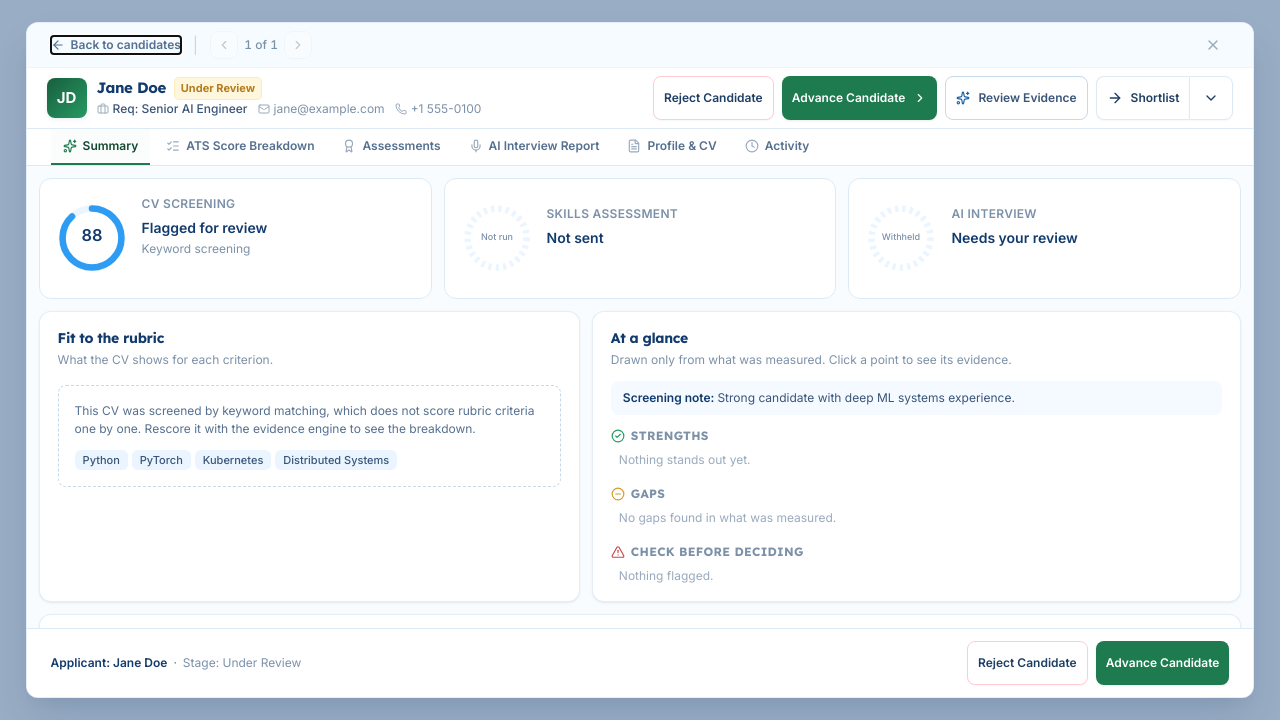
Test: switches tabs across Summary, Evidence, Assessments, Interview, Activity
Expected: the heading "Jane Doe" is shown, [97,79,166,98]
Click the tab "Profile & CV". click: (672, 147)
box: [616,129,729,165]
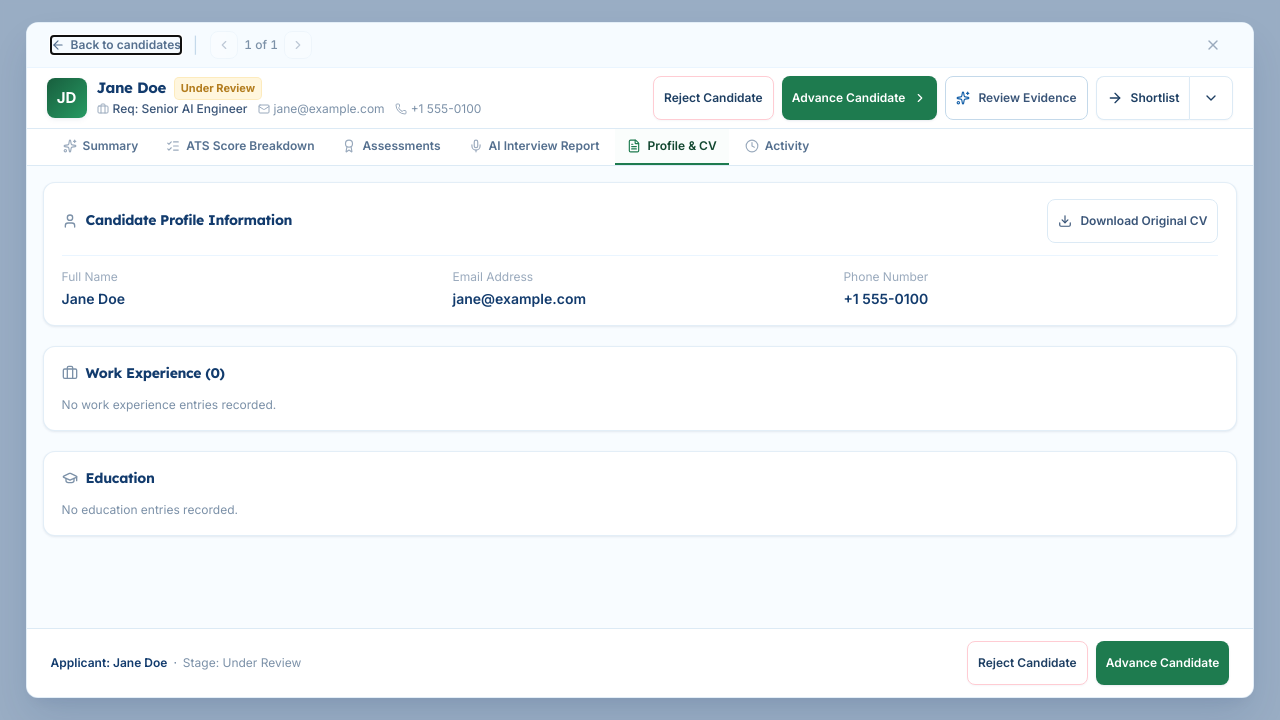
Expected: the heading "Candidate Profile Information" is shown, [62,210,292,231]
Click Activity tab
Click the tab "Activity". click: (777, 147)
box: [733,129,821,165]
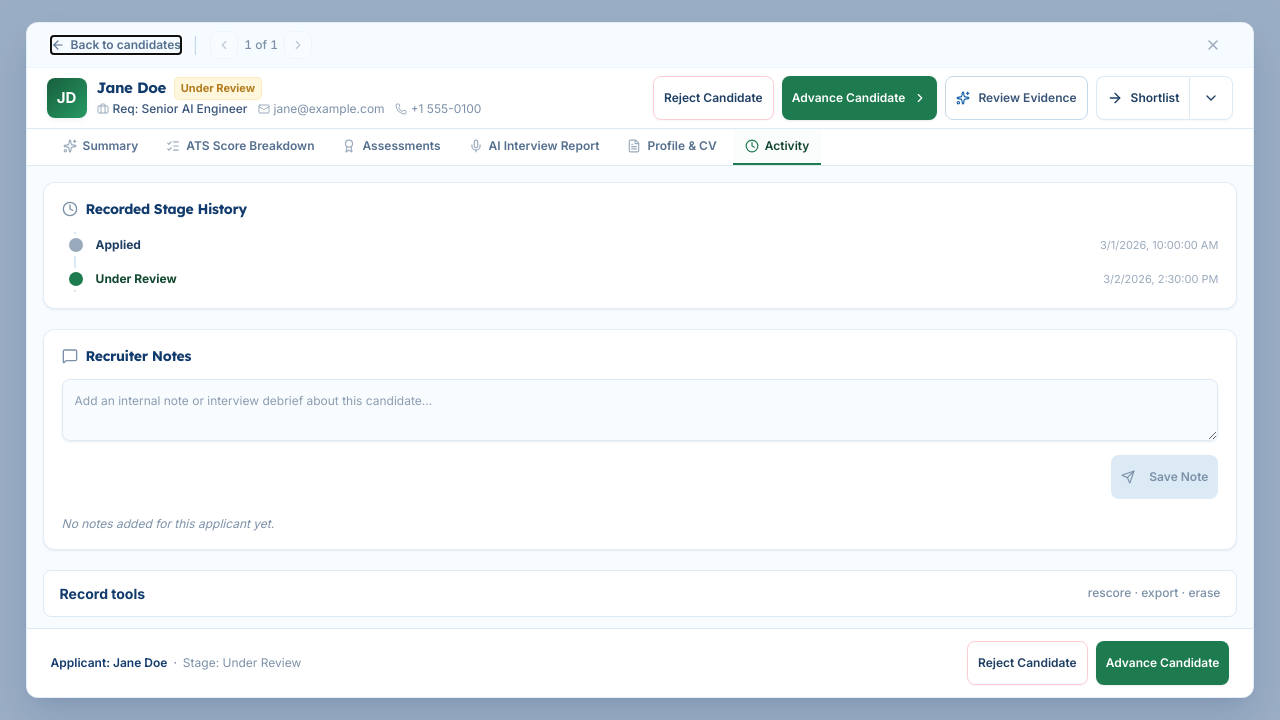
Expected: the heading "Recorded Stage History" is shown, [62,200,247,218]
